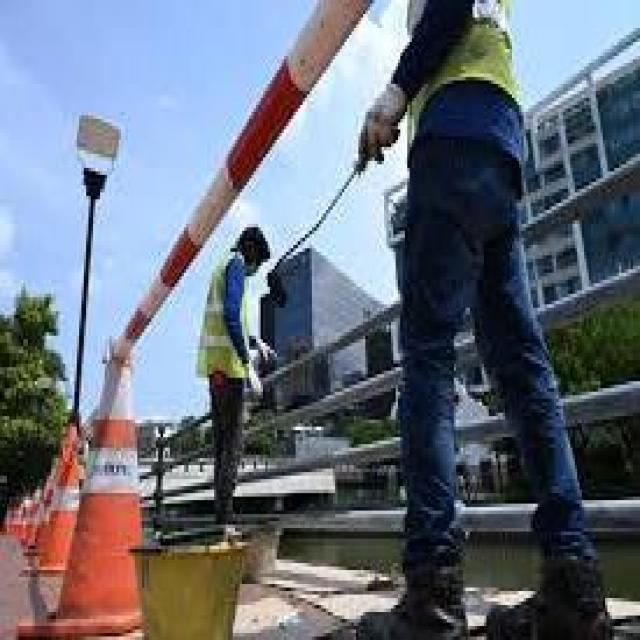Reflective-Jacket: (190, 252, 268, 402)
Safety-Helmet: (228, 214, 272, 262)
